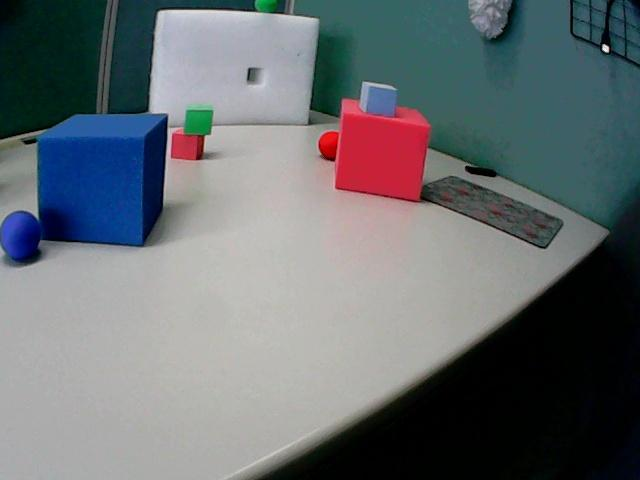blue_block: (38, 114, 167, 245), (360, 81, 397, 116)
red_block: (335, 99, 430, 200), (171, 128, 204, 159)
